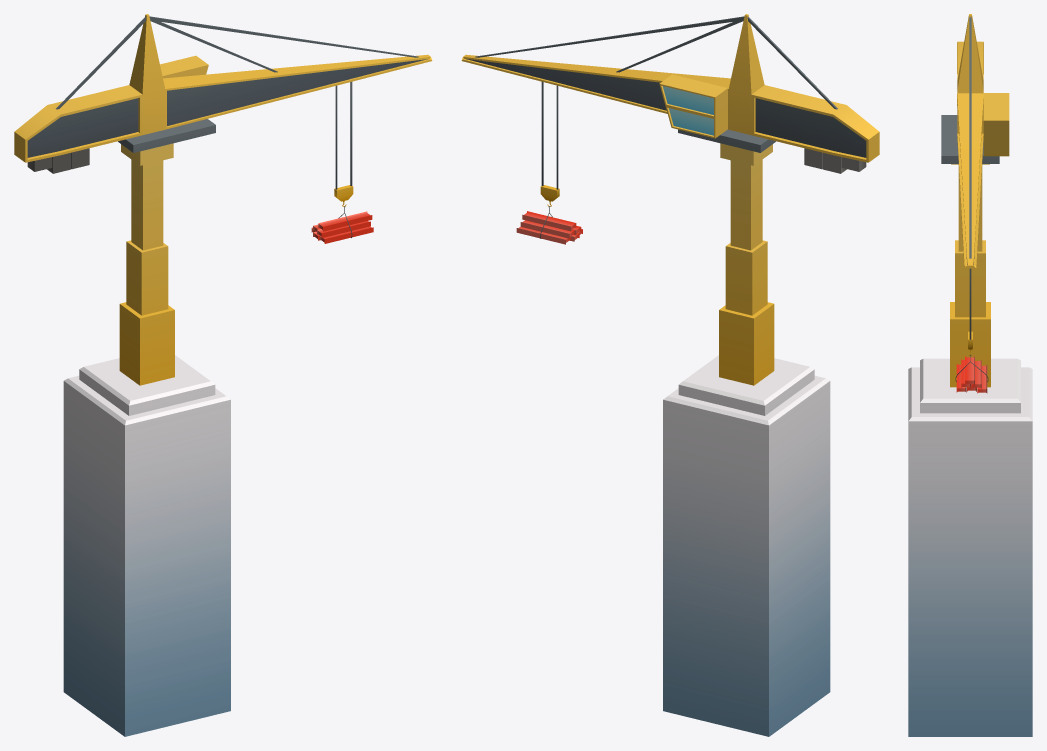
File: Crane.fbx
3 renders of one model, left to right at view 1: azimuth 30°, elevation 25°; view 2: azimuth 150°, elevation 25°; view 3: azimuth 270°, elevation 25°, orthographic.
Visible parts, largest first — view 1: Crane, Iron_Load; view 2: Crane, Iron_Load; view 3: Crane, Iron_Load.
Boxes of the visible parts, <box> form: Crane: <box>14,14,432,736</box>; Iron_Load: <box>311,82,373,243</box>; Crane: <box>461,14,879,736</box>; Iron_Load: <box>516,82,582,244</box>; Crane: <box>908,14,1032,736</box>; Iron_Load: <box>955,268,988,393</box>.
Size of the model in its own units: 3551 by 5690 by 919.
